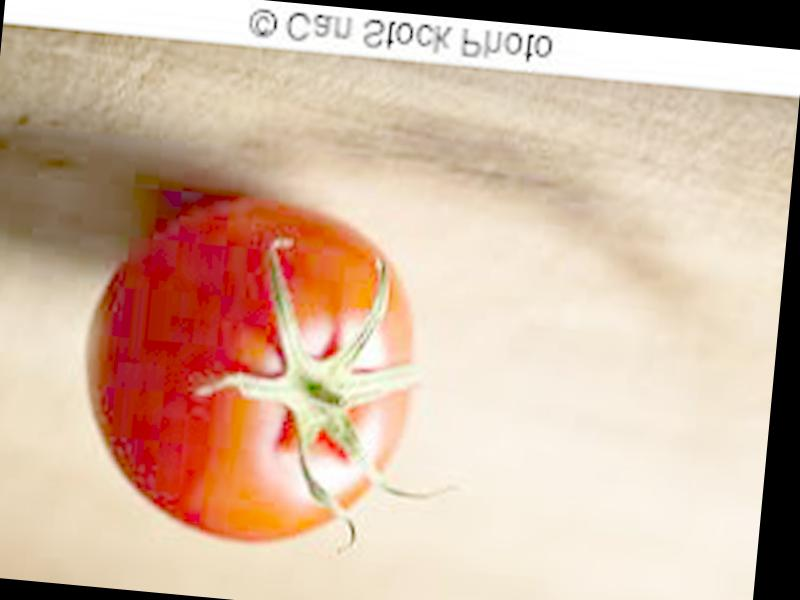Tomato: (72, 186, 432, 551)
